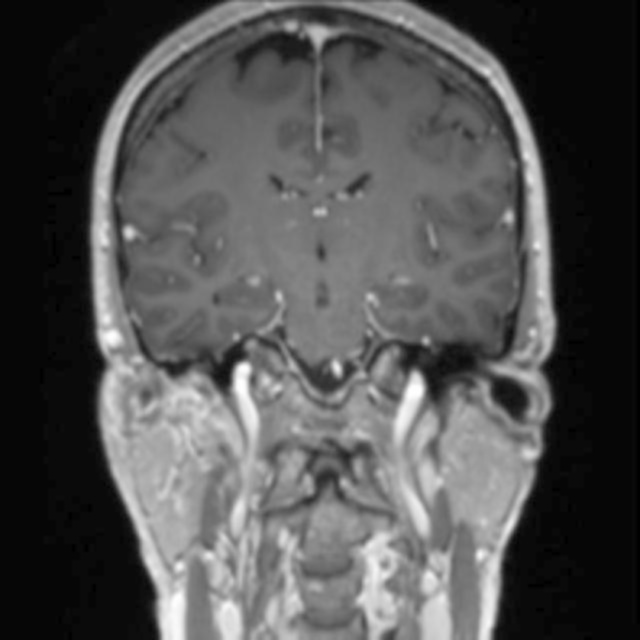glioma tumor: (148, 51, 511, 373)
